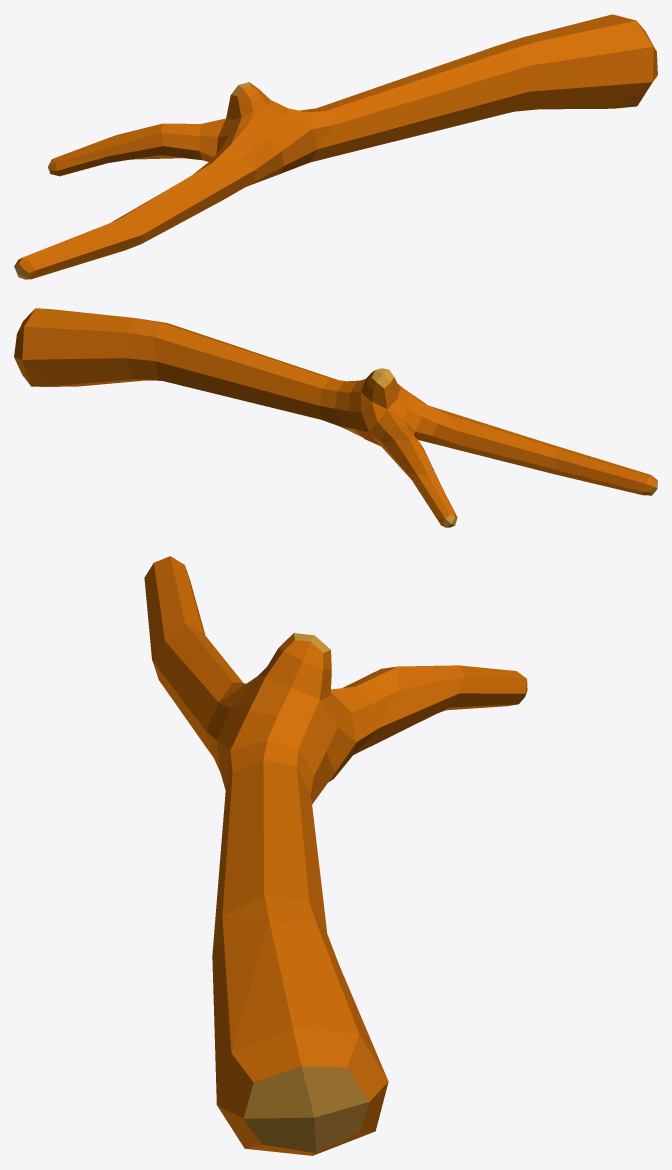
File: Log06.fbx
The picture shows the model from 3 angles, top to bottom: view 1: azimuth 30°, elevation 25°; view 2: azimuth 150°, elevation 25°; view 3: azimuth 270°, elevation 25°; orthographic projection. The views are drawn at different scales.
Parts seen in each view (by area): view 1: Log06; view 2: Log06; view 3: Log06.
Part boxes in pixels (x1,y1,x2,y2): Log06: [14, 14, 657, 279]; Log06: [14, 308, 657, 527]; Log06: [144, 556, 527, 1155].
Bounding box in the file's own units: 219 × 33.76 × 60.51.
